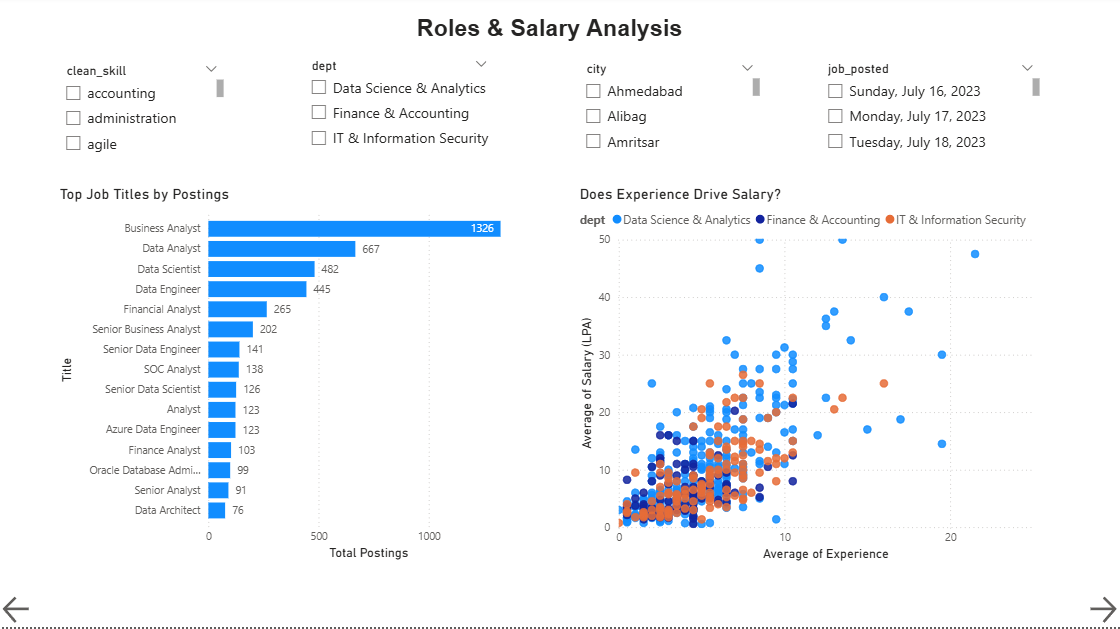

The page's visual inventory and layout, read from the dashboard file:
{"tool":"powerbi","page":{"name":"Roles","canvas":[1280,720],"ordinal":1},"visuals":[{"type":"slicer","fields":{"Values":["DimSkills.clean_skill"]},"box":[64.1,71.3,196.7,116.9],"z":0},{"type":"slicer","fields":{"Values":["DimDepts.dept"]},"box":[343.5,65.6,225.2,122.6],"z":1000},{"type":"slicer","fields":{"Values":["DimLocations.city"]},"box":[657.1,69.8,215.2,115.5],"z":2000},{"type":"slicer","fields":{"Values":["FactJobs.job_posted"]},"box":[932.2,69.8,259.4,116.9],"z":3000},{"type":"clusteredBarChart","title":"Top Job Titles by Postings","fields":{"Y":["_Measures.Total Postings"],"Category":["FactJobs.title"]},"box":[64.3,215.7,558.6,432.9],"z":4000},{"type":"scatterChart","title":"Does Experience Drive Salary?","fields":{"Y":["FactJobs.avg_salary (in lacs)"],"X":["FactJobs.avg_experience"],"Series":["DimDepts.dept"]},"box":[657.1,215.7,534.3,434.3],"z":5000},{"type":"textbox","box":[64.1,17.1,1127.5,54.2],"z":6000},{"type":"actionButton","box":[0,679.9,44.2,39.9],"z":7000},{"type":"actionButton","box":[1238.7,679.9,41.3,39.9],"z":8000}]}

Visuals, with their boxes in screenshot pixels (x1, y1, x2, y2), scaled from the page's 1280x720 canvas onto the 1120x629 screenshot:
slicer - DimSkills.clean_skill: 56 62 228 164
slicer - DimDepts.dept: 301 57 498 164
slicer - DimLocations.city: 575 61 763 162
slicer - FactJobs.job_posted: 816 61 1043 163
"Top Job Titles by Postings" clusteredBarChart: 56 188 545 567
"Does Experience Drive Salary?" scatterChart: 575 188 1042 568
textbox: 56 15 1043 62
actionButton: 0 594 39 628
actionButton: 1084 594 1119 628
